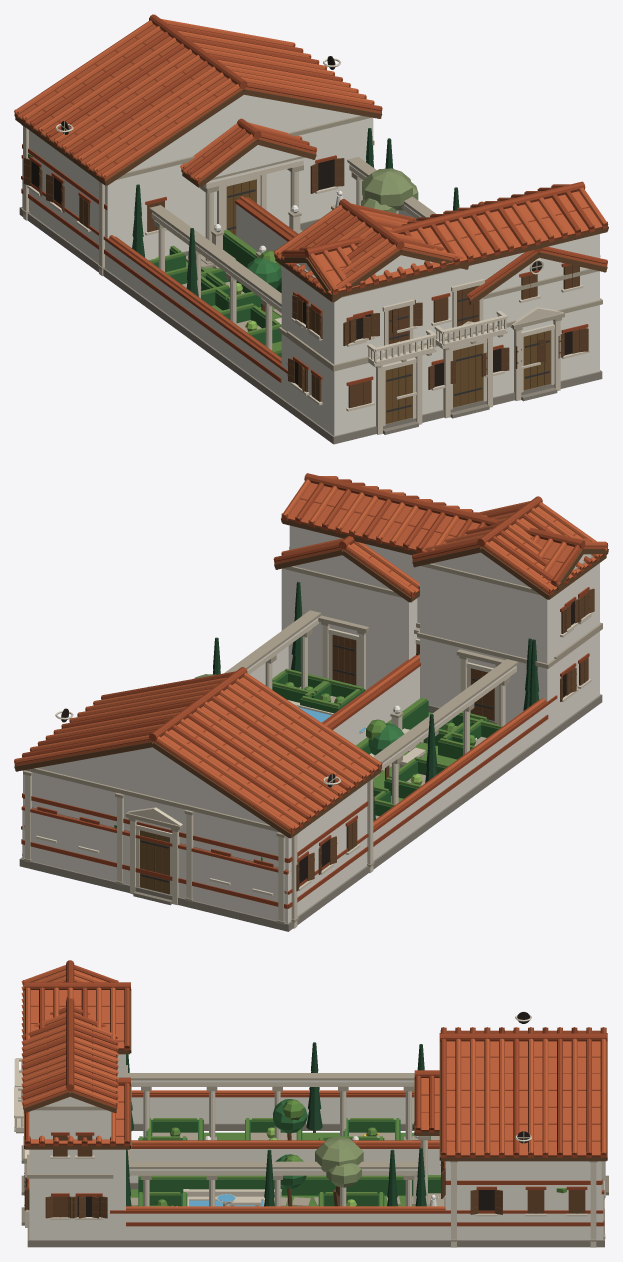
Rendered from Gartenzeile.fbx.
3 renders of one model, top to bottom at view 1: azimuth 30°, elevation 25°; view 2: azimuth 150°, elevation 25°; view 3: azimuth 270°, elevation 25°, orthographic. The views are drawn at different scales.
Visible parts, largest first — view 1: Gartenzeile_0, Gartenzeile_1; view 2: Gartenzeile_0, Gartenzeile_1; view 3: Gartenzeile_0, Gartenzeile_1.
Part boxes in pixels (left/top/right/bottom): Gartenzeile_0: left=14, top=14, right=608, bottom=444; Gartenzeile_1: left=19, top=138, right=607, bottom=443; Gartenzeile_0: left=14, top=473, right=608, bottom=930; Gartenzeile_1: left=19, top=496, right=607, bottom=931; Gartenzeile_0: left=14, top=960, right=608, bottom=1247; Gartenzeile_1: left=14, top=982, right=604, bottom=1247.
Bounding box in the file's own units: 3.67 × 2.34 × 7.26.
